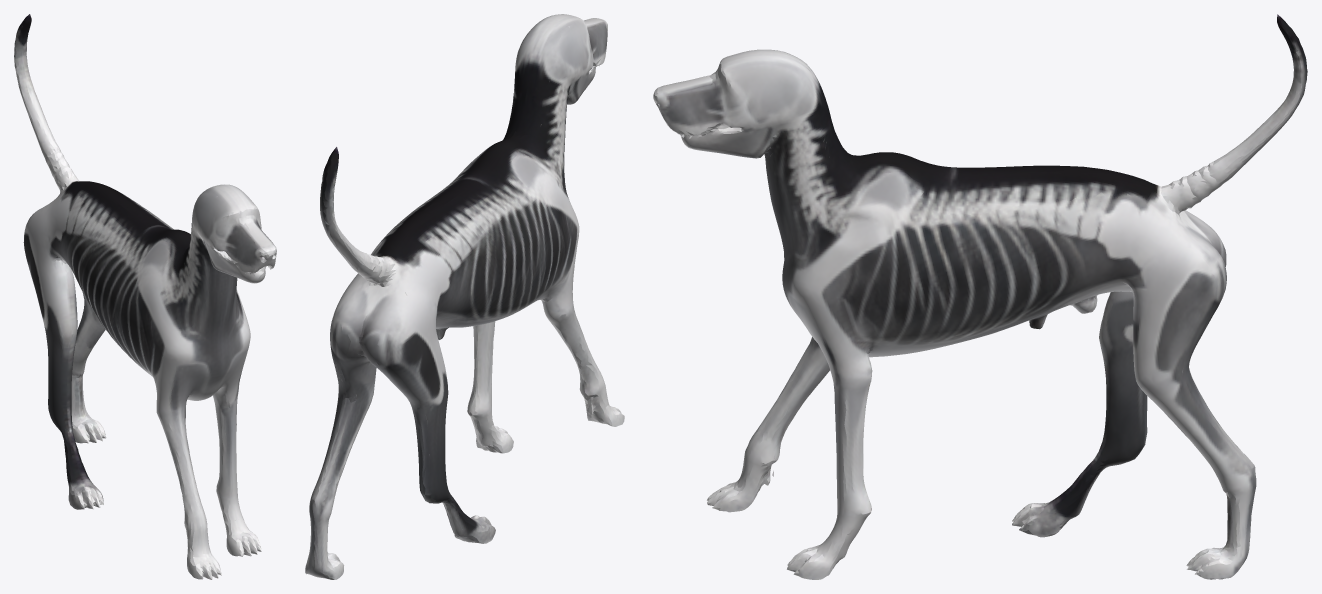
The model's file is dog_xray.glb.
3 views of the same model, side by side, from view 1: azimuth 30°, elevation 25°; view 2: azimuth 150°, elevation 25°; view 3: azimuth 270°, elevation 25° (orthographic). The views are drawn at different scales.
Parts seen in each view (by area): view 1: model; view 2: model; view 3: model.
Boxes of the visible parts, bbox=[...] form: model: bbox=[14, 14, 276, 579]; model: bbox=[305, 14, 624, 579]; model: bbox=[653, 14, 1307, 579].
Size of the model in its own units: 0.432 by 1.72 by 1.9.
1 material, 1 textured.
